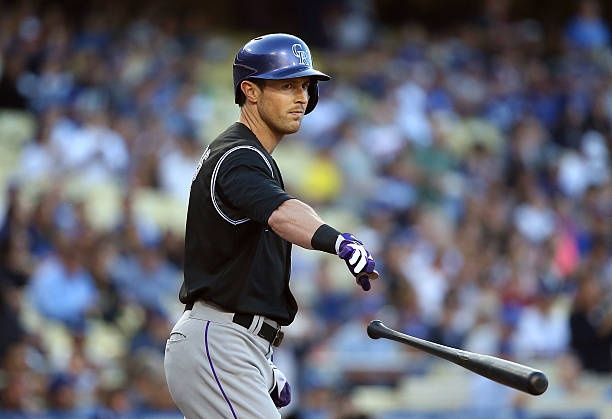bita: (370, 322, 560, 394)
